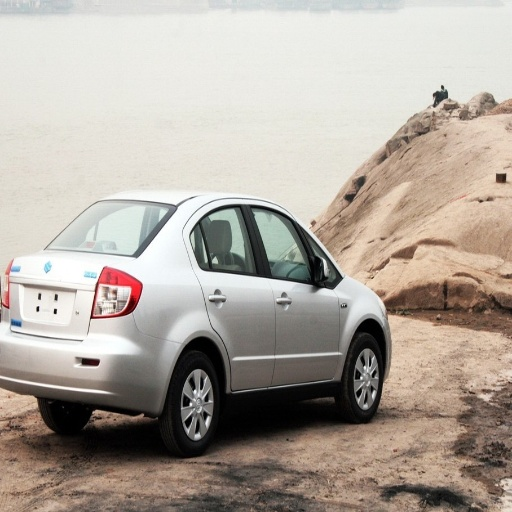back_bumper: (3, 313, 180, 413)
back_right_door: (191, 202, 274, 386)
